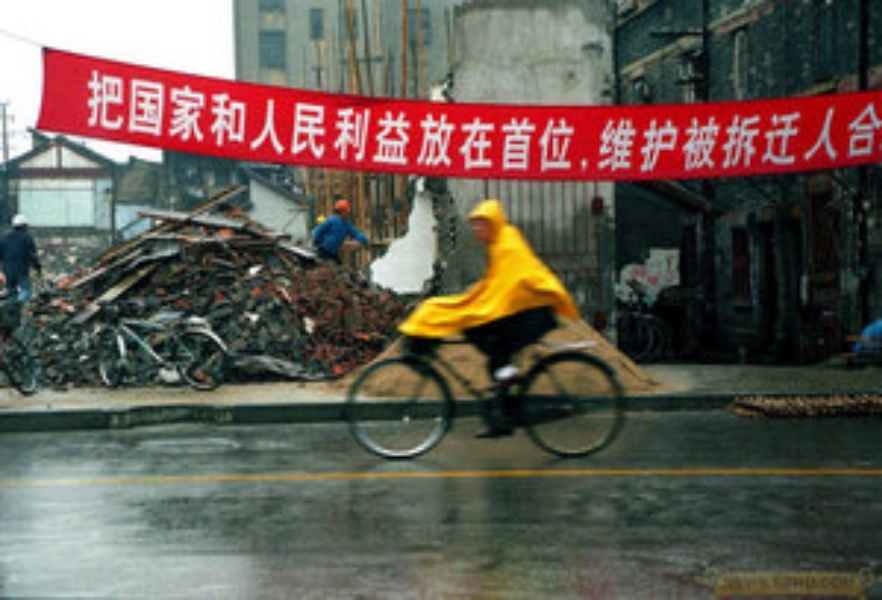text: (97, 71, 112, 189), (113, 71, 128, 189), (129, 71, 144, 189), (145, 71, 160, 189), (161, 71, 176, 189), (177, 71, 192, 189), (193, 71, 208, 189), (209, 71, 224, 189), (225, 71, 240, 189), (241, 71, 256, 189), (257, 71, 272, 189), (273, 71, 288, 189), (289, 71, 304, 189), (305, 71, 320, 189), (321, 71, 336, 189), (337, 71, 352, 189), (353, 71, 368, 189), (369, 71, 384, 189), (385, 71, 400, 189), (401, 71, 416, 189), (417, 71, 432, 189), (433, 71, 448, 189), (449, 71, 464, 189), (465, 71, 480, 189), (481, 71, 496, 189), (497, 71, 512, 189), (513, 71, 528, 189), (529, 71, 544, 189), (545, 71, 560, 189), (561, 71, 576, 189), (577, 71, 592, 189), (593, 71, 608, 189), (609, 71, 624, 189), (625, 71, 640, 189), (641, 71, 656, 189), (657, 71, 672, 189), (673, 71, 688, 189), (689, 71, 704, 189), (705, 71, 720, 189), (721, 71, 736, 189), (737, 71, 752, 189), (753, 71, 768, 189), (769, 71, 784, 189), (785, 71, 800, 189), (801, 71, 816, 189), (817, 71, 832, 189), (833, 71, 848, 189), (849, 71, 864, 189), (865, 71, 880, 189), (89, 71, 96, 189)
